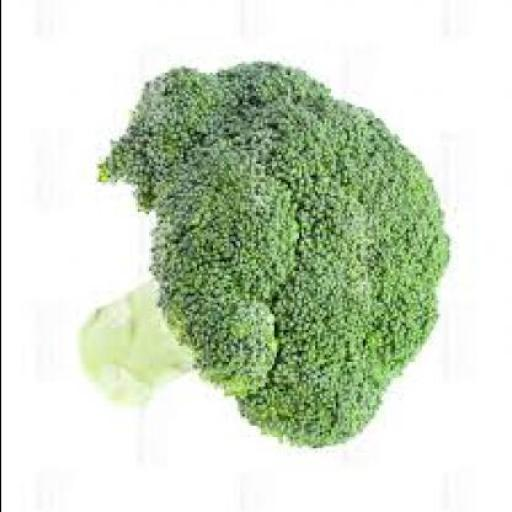biodegradable: (88, 57, 450, 444)
